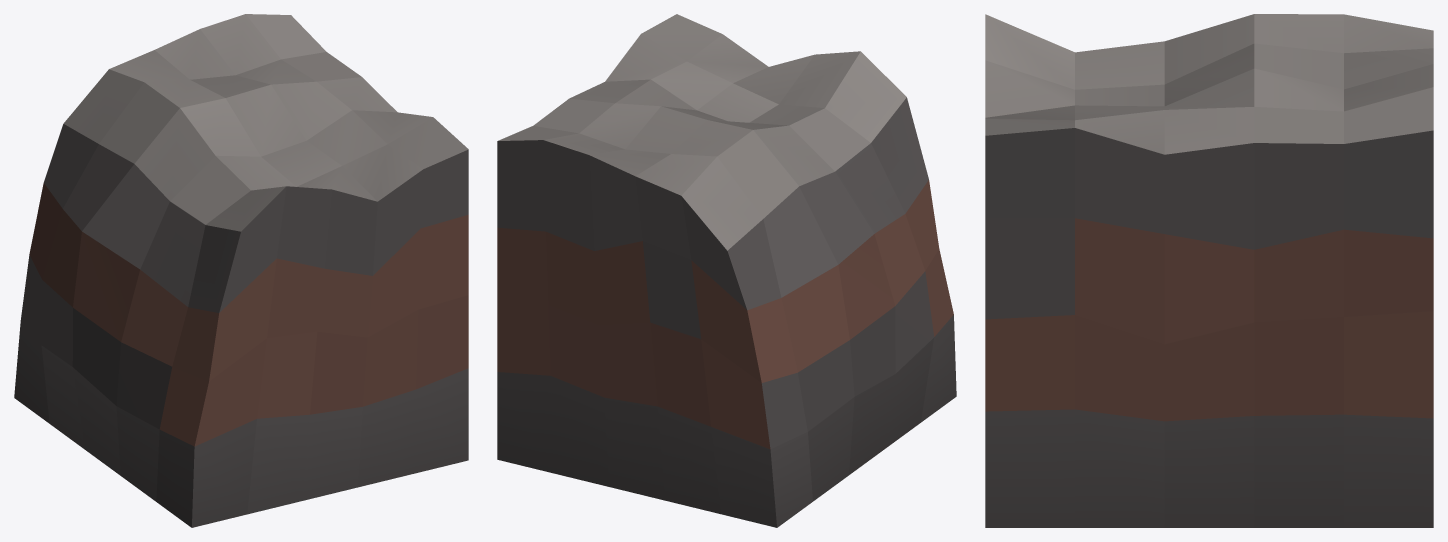
Rendered from roca_te_2.glb.
3 views of the same model, side by side, from view 1: azimuth 30°, elevation 25°; view 2: azimuth 150°, elevation 25°; view 3: azimuth 270°, elevation 25° (orthographic). The views are drawn at different scales.
Parts seen in each view (by area): view 1: propforge-cuartos-roca_te; view 2: propforge-cuartos-roca_te; view 3: propforge-cuartos-roca_te.
Boxes of the visible parts, bbox=[...] form: propforge-cuartos-roca_te: bbox=[14, 14, 468, 527]; propforge-cuartos-roca_te: bbox=[497, 14, 956, 527]; propforge-cuartos-roca_te: bbox=[985, 14, 1433, 527].
Size of the model in its own units: 0.9293 by 1.02 by 1.
